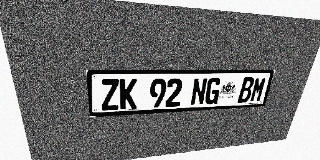2: (165, 78, 183, 107)
9: (149, 78, 167, 108)
B: (237, 77, 255, 103)
G: (204, 78, 222, 105)
K: (119, 79, 137, 110)
M: (249, 77, 267, 102)
N: (190, 78, 208, 106)
Z: (100, 79, 119, 111)
